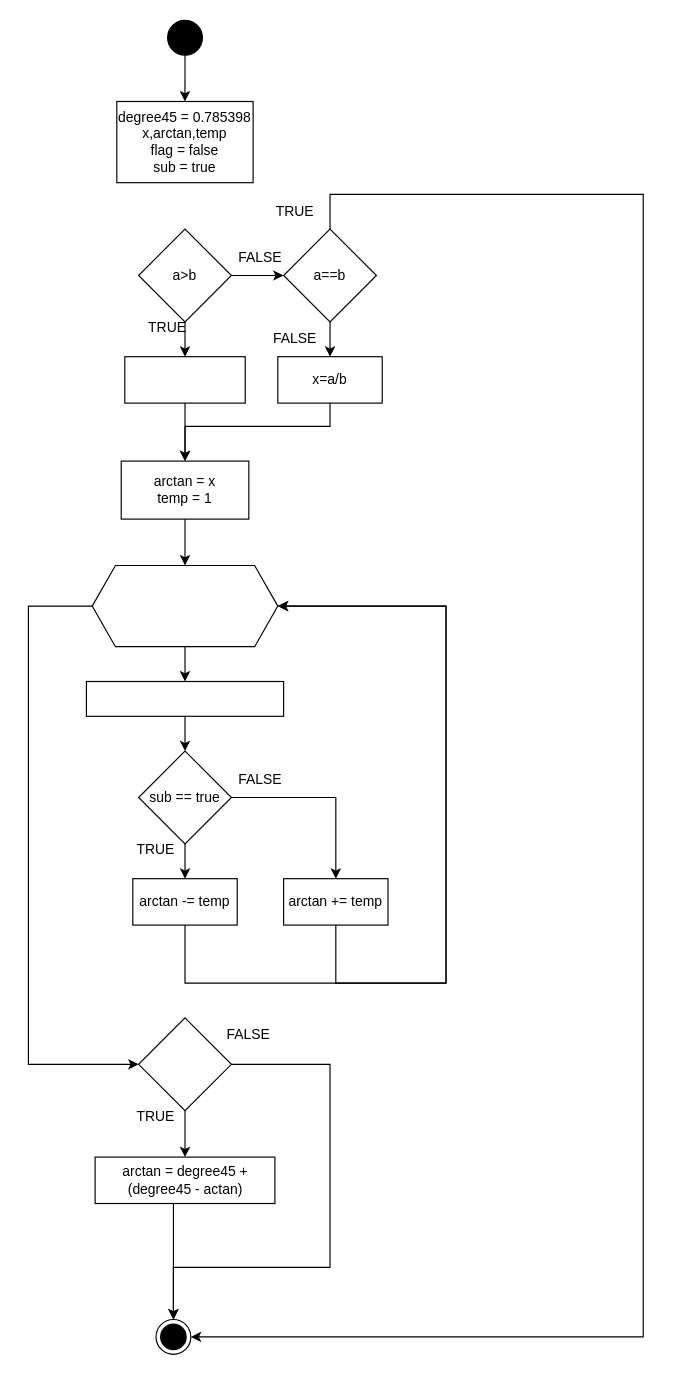
Image size: 673x1375. Some labels were removed from this diagram. Each missing label, with the centre of its shape:
"flag == true" goes at point 184,1064.
"i = 3; temp > 0.0001 && i<100; i += 2,sub = !sub" goes at point 184,605.
"temp = simple_pow(x,i) / i;" goes at point 184,698.
"x=b/a;flag = true" goes at point 184,379.
